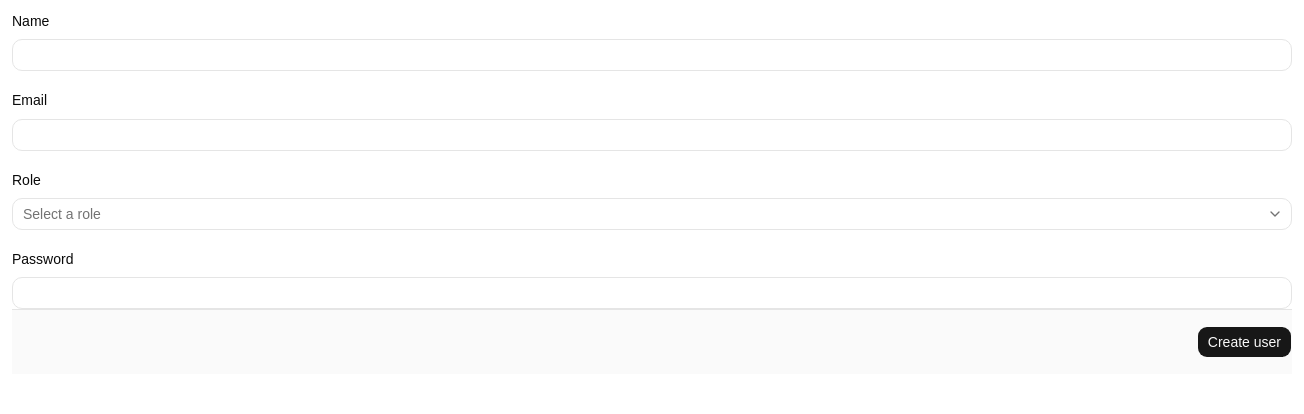
Test: UserForm › create mode › shows a generic error when the failure carries no structured API message
The width and height of the screenshot is (1304, 414).
Type "Jane Doe" into the field labelled "Name" at (652, 55), box [12,39,1292,71]
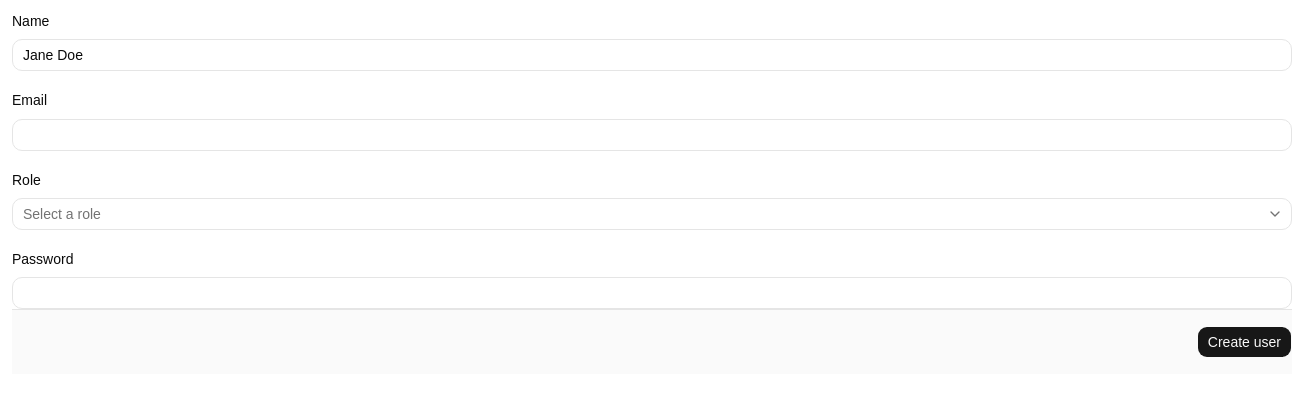
Type "jane@example.com" into the field labelled "Email" at (652, 134), box [12,118,1292,150]
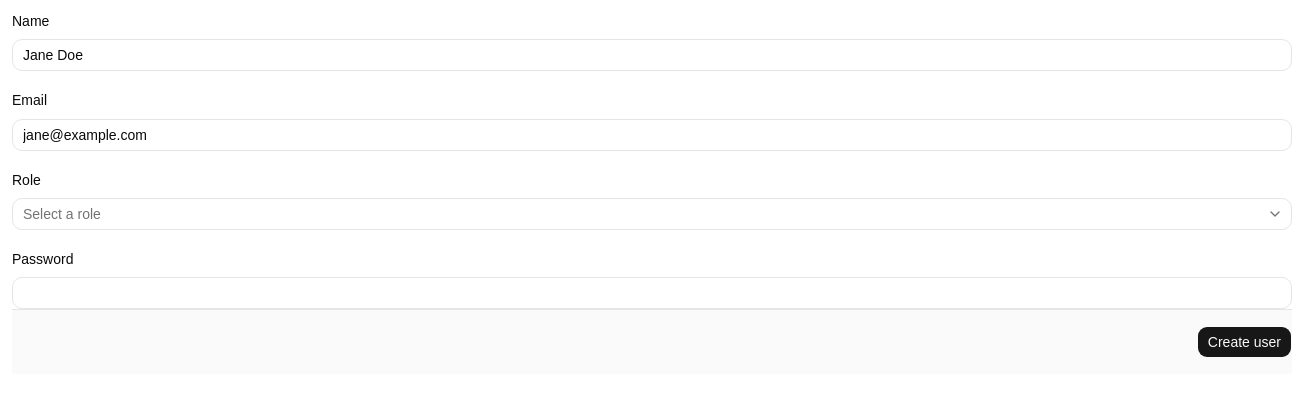
Click the dropdown labelled "role" at (62, 214), box [12,198,1292,230]
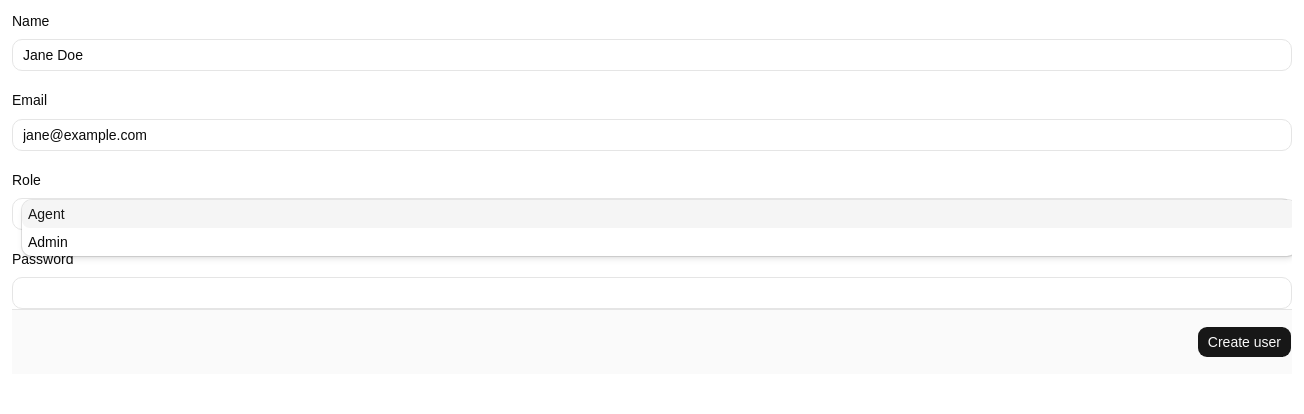
Click the option "Agent" at (46, 214), box [22,200,1292,228]
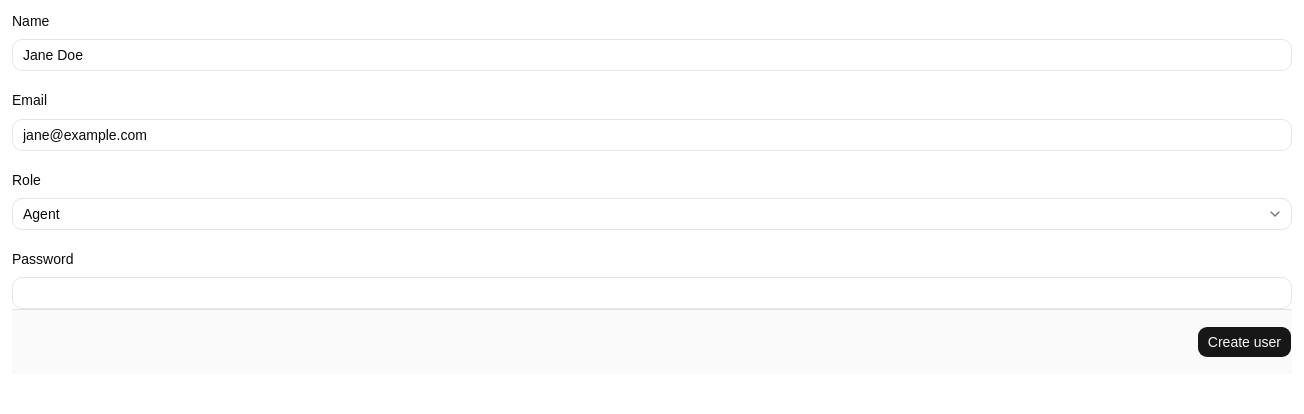
Type "secret" into the password field labelled "Password" at (652, 293), box [12,277,1292,309]
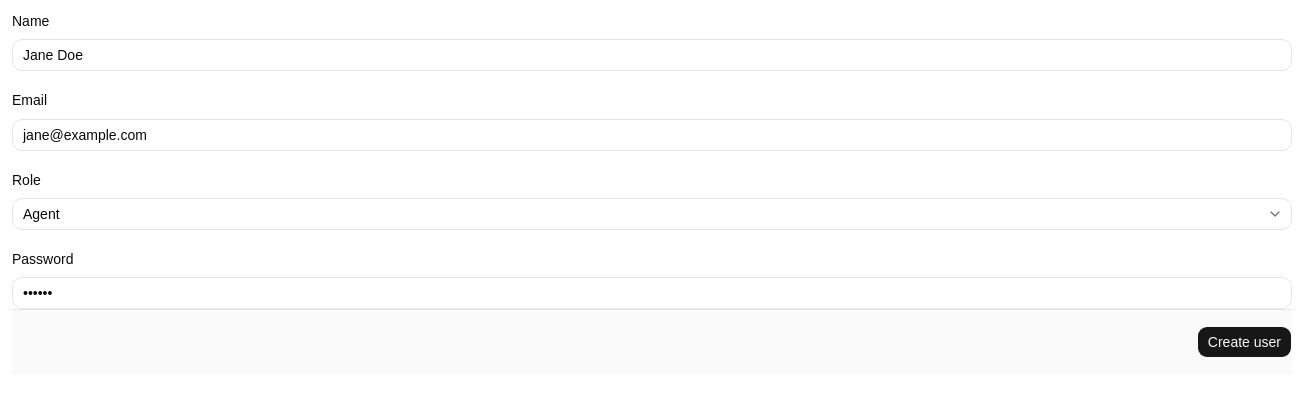
Submit the form
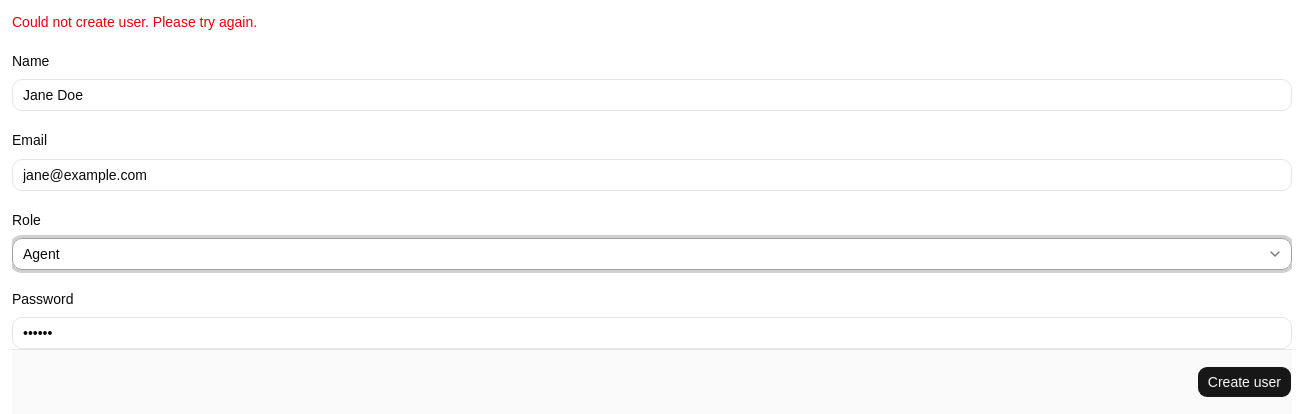
Now the text "Could not create user. Please try again." is shown, box [12,14,257,30]
